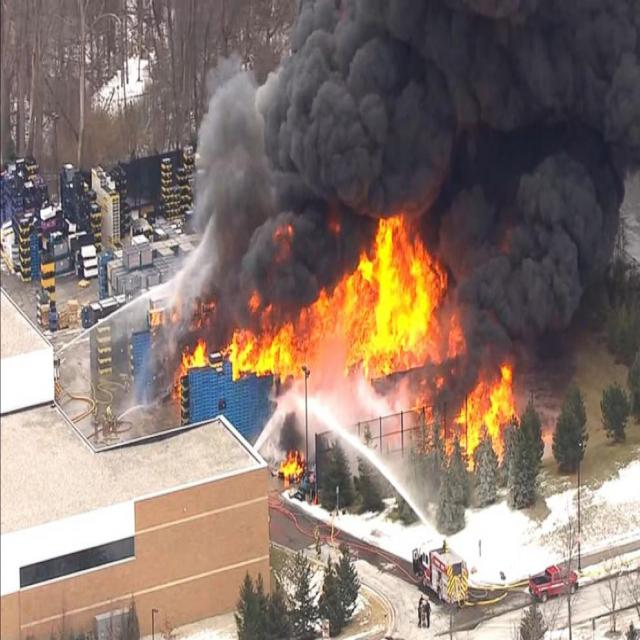fire: (171, 206, 474, 402), (411, 358, 524, 476), (272, 445, 310, 484), (150, 302, 182, 329)
